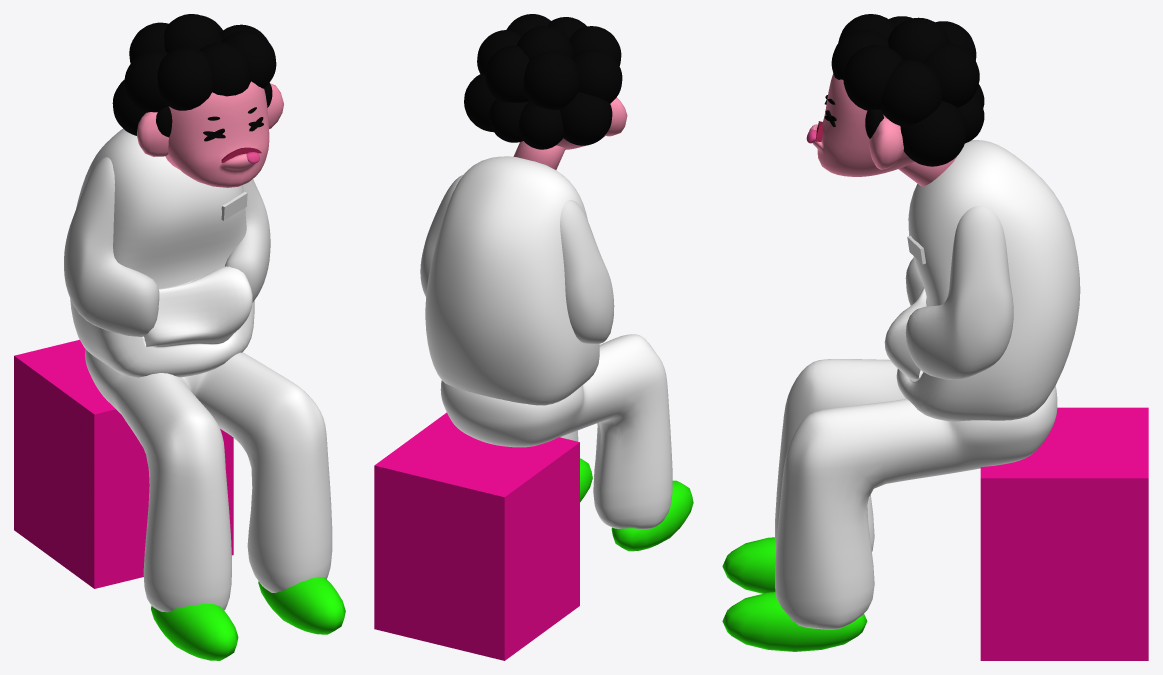
File: friend_eww.glb
3 renders of one model, left to right at view 1: azimuth 30°, elevation 25°; view 2: azimuth 150°, elevation 25°; view 3: azimuth 270°, elevation 25°, orthographic. The views are drawn at different scales.
Parts seen in each view (by area): view 1: pCube10, pCube9, 1body1, hair, 3-2body, pCube1, pCube13, pCube12; view 2: pCube9, 1body1, pCube10, hair, 3-2body, pCube13, pCube1, 구체.016; view 3: pCube9, pCube10, 1body1, hair, 3-2body, pCube1, pCube12, 구체.016, pCube13.
Boxes of the visible parts, bbox=[...] form: pCube10: bbox=[85, 336, 332, 612]; pCube9: bbox=[14, 340, 233, 588]; 1body1: bbox=[70, 128, 254, 377]; hair: bbox=[112, 14, 276, 137]; 3-2body: bbox=[64, 157, 270, 336]; pCube1: bbox=[137, 81, 283, 187]; pCube13: bbox=[151, 604, 238, 660]; pCube12: bbox=[258, 577, 345, 634]; pCube9: bbox=[374, 412, 579, 660]; 1body1: bbox=[425, 156, 599, 405]; pCube10: bbox=[440, 334, 672, 529]; hair: bbox=[477, 14, 622, 149]; 3-2body: bbox=[420, 174, 614, 343]; pCube13: bbox=[611, 480, 693, 551]; pCube1: bbox=[513, 97, 627, 169]; 구체.016: bbox=[464, 74, 496, 132]; pCube9: bbox=[980, 407, 1148, 660]; pCube10: bbox=[775, 359, 1057, 629]; 1body1: bbox=[884, 140, 1080, 421]; hair: bbox=[831, 14, 984, 143]; 3-2body: bbox=[905, 206, 1013, 379]; pCube1: bbox=[809, 73, 956, 186]; pCube12: bbox=[722, 592, 867, 651]; 구체.016: bbox=[900, 100, 966, 166]; pCube13: bbox=[722, 537, 776, 593].
Bounding box in the file's own units: 0.4183 × 1.19 × 0.7618.
